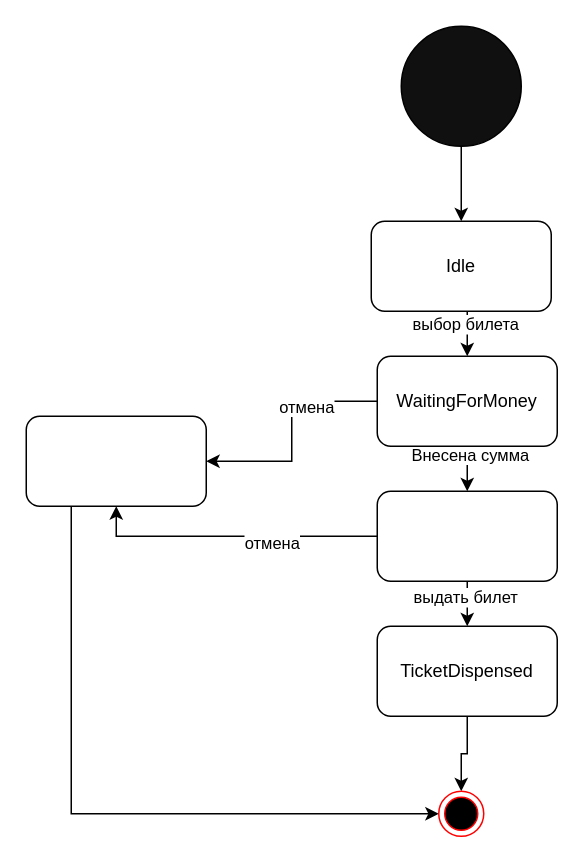
This 584x863 diagram has some shape labels left out. Here are the shapes that lost their labels. From the top down, the centre of each, then its label:
the point at 115,460: TransactionCancelled
the point at 466,535: MoneyReceived
